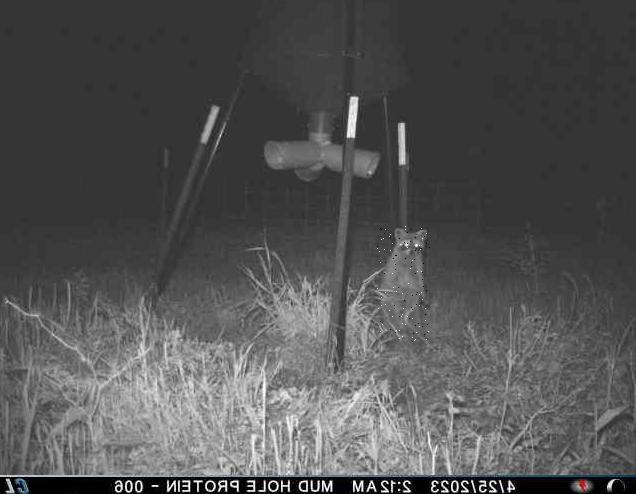Raccoon: (376, 226, 429, 342)
